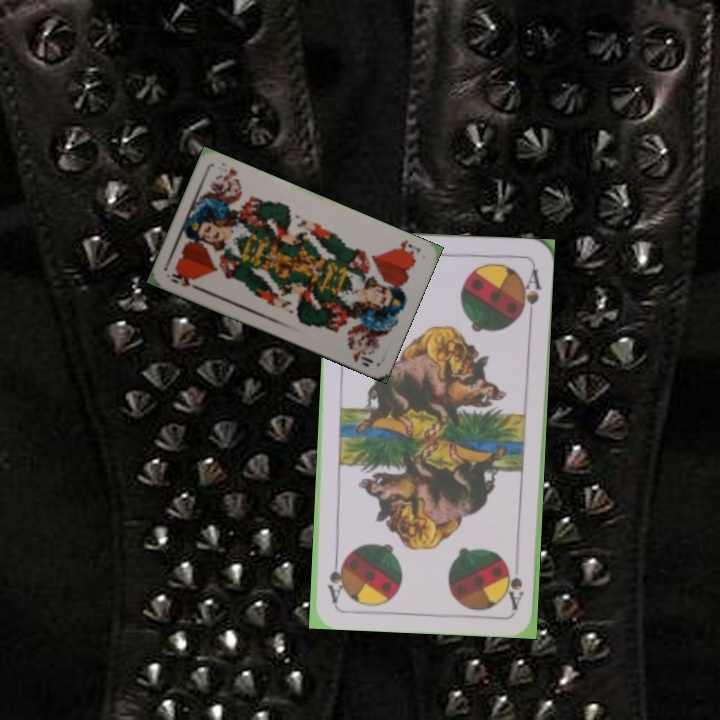HO: (166, 269, 204, 294), (389, 236, 423, 259)
SA: (503, 563, 526, 612)
